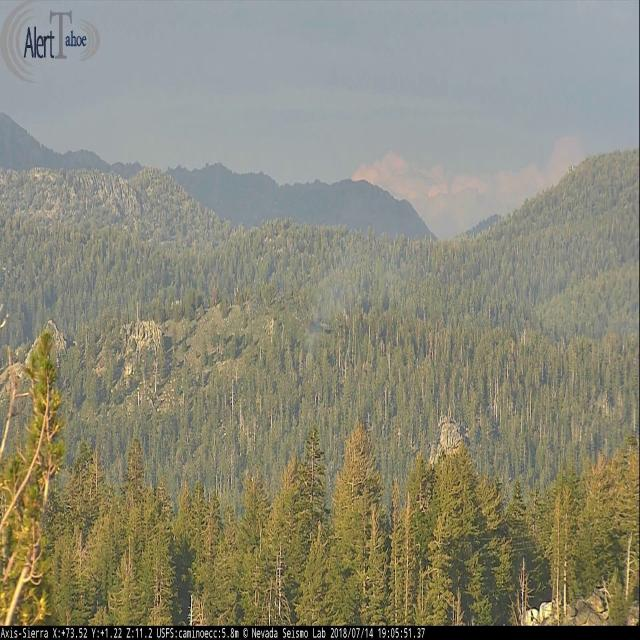smoke: (304, 197, 426, 370)
